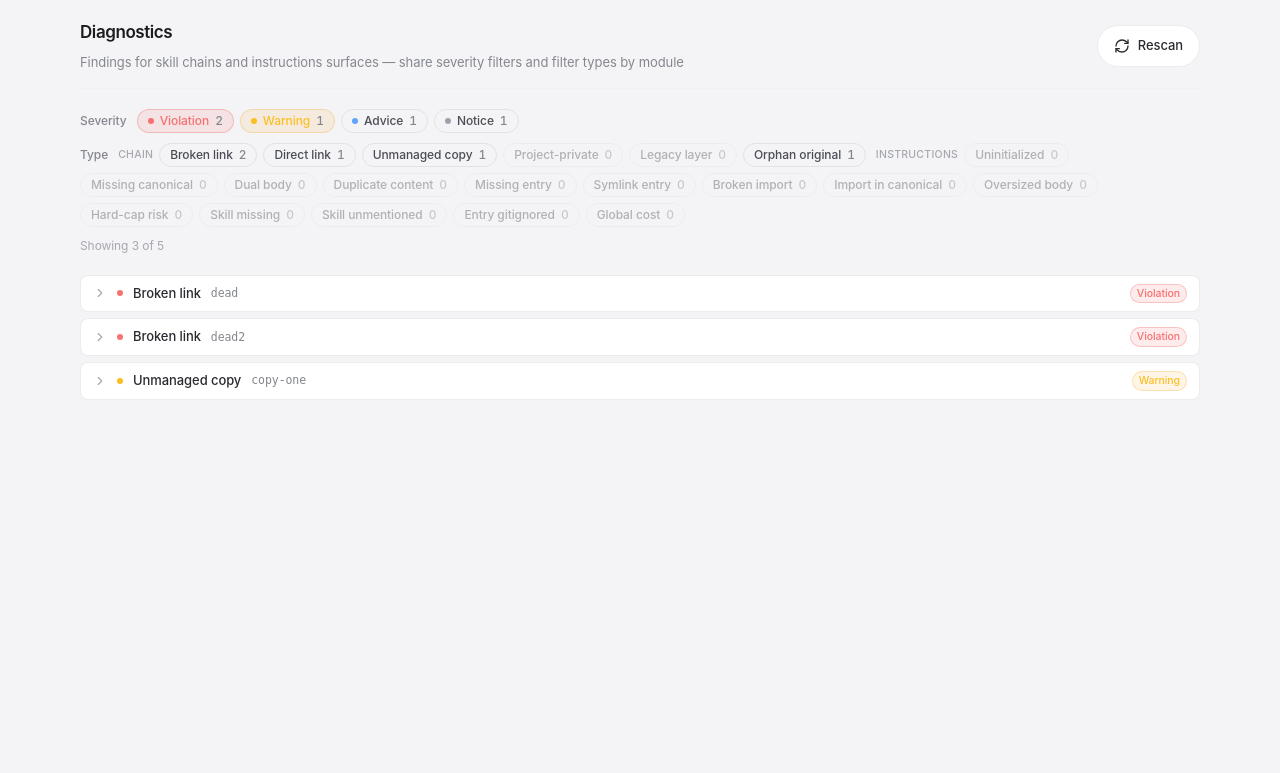
ChainDoctor › previews a normalization repair for a repairable finding
The image size is (1280, 773).
Click the button with test id "sev-violation".
click(185, 120)  # box [137,108,234,132]
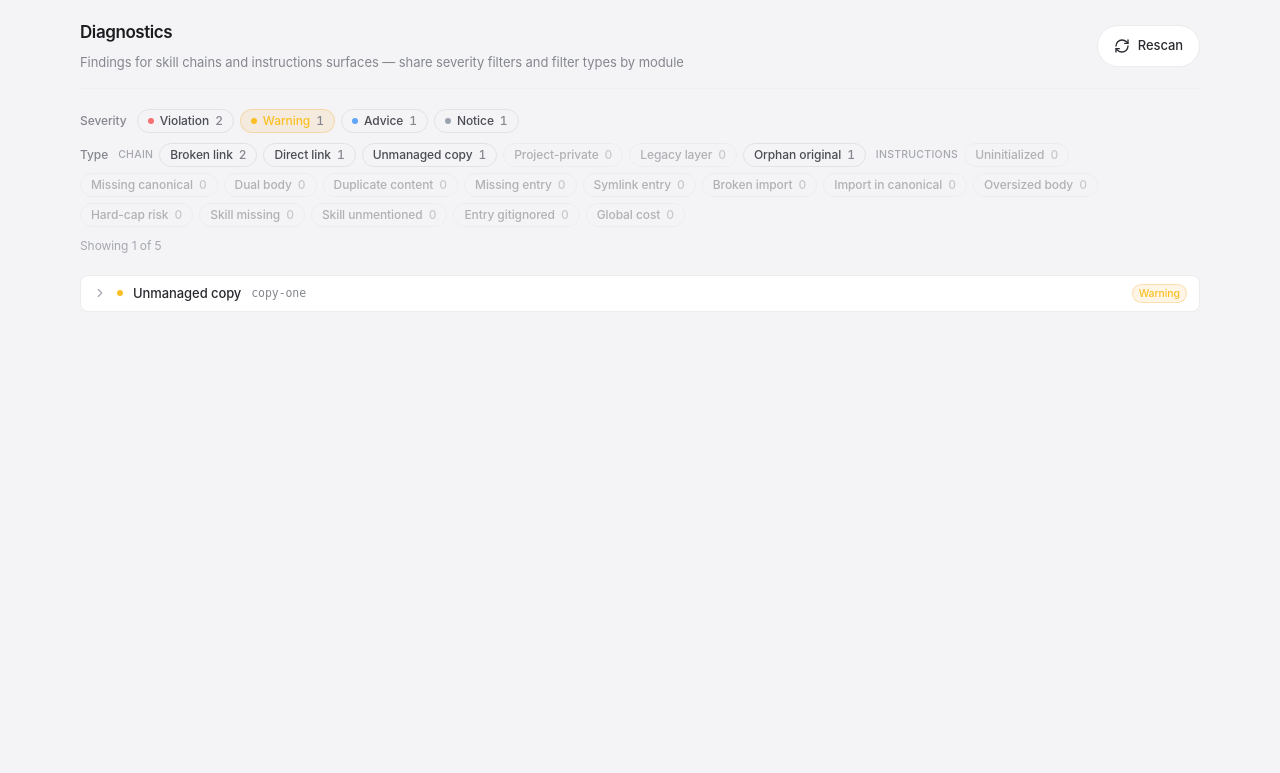
Click the button with test id "sev-warning".
click(287, 120)  # box [240,108,335,132]
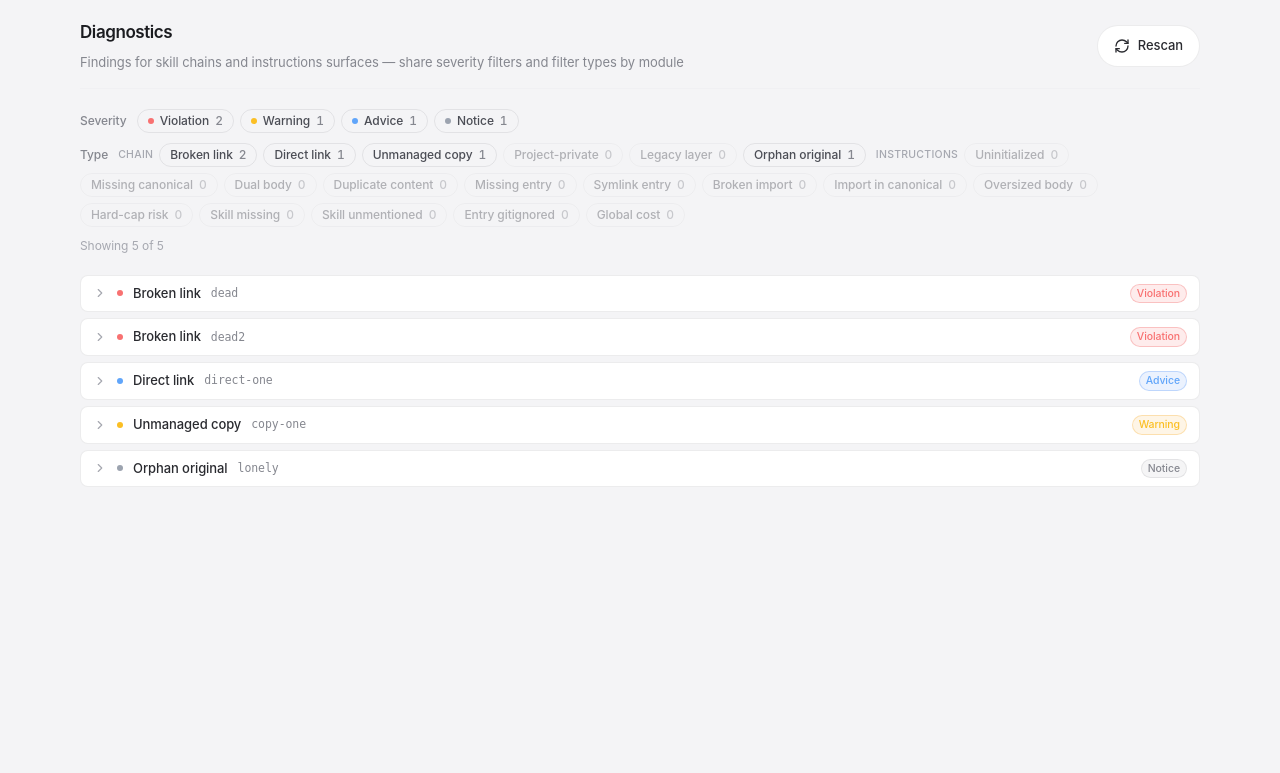
Click the button "Direct link direct-one Advice".
click(164, 380)  # box [81,363,1199,399]
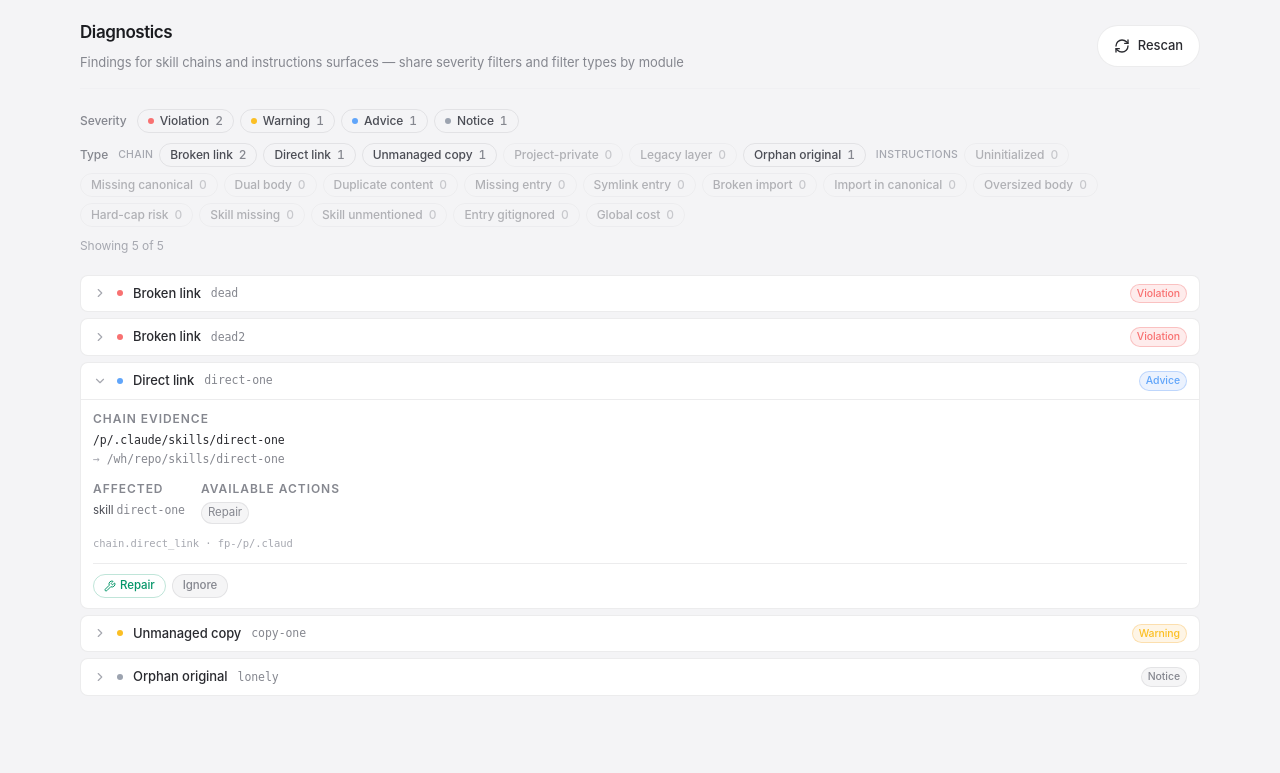
Click the button with test id "repair".
click(129, 586)  # box [93,574,166,598]
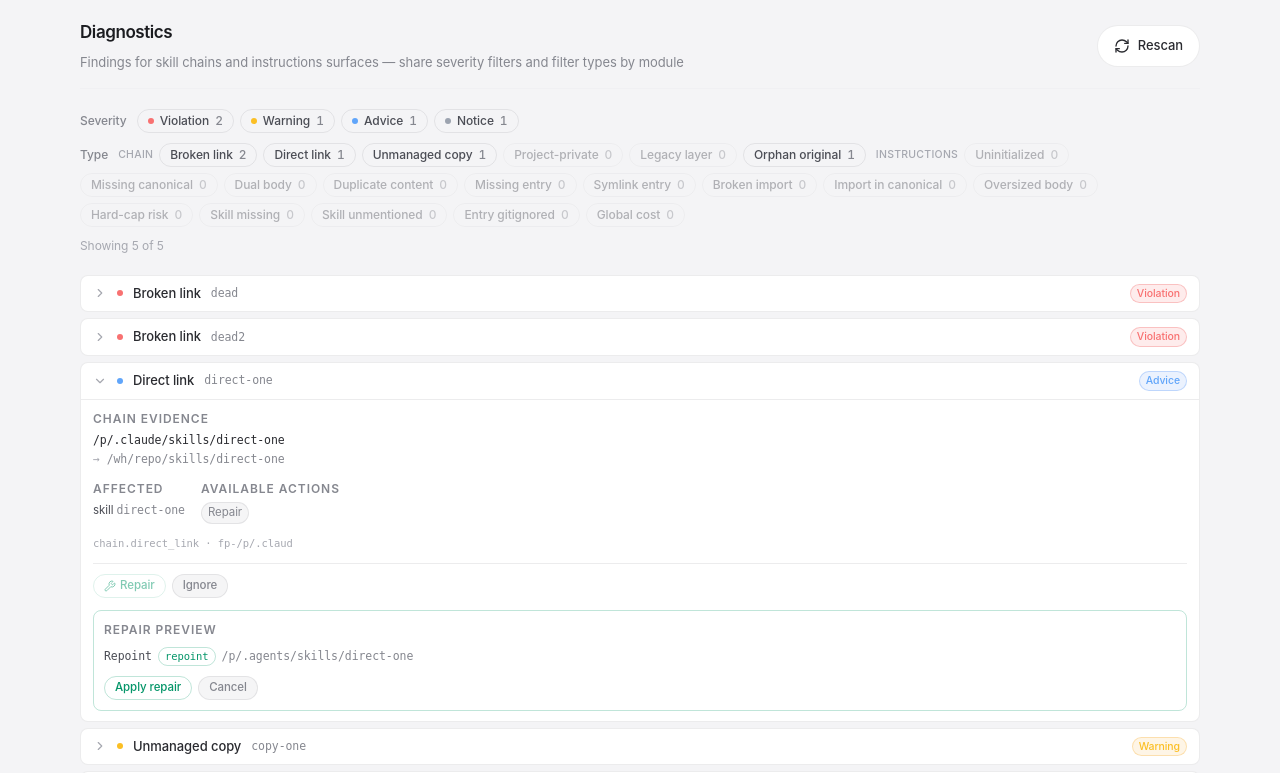
Now the list with test id "repair-items" shows "/p/.agents/skills/direct-one", box [222,649,413,663]
Now the button with test id "repair-confirm" is shown, box [104,676,192,700]
